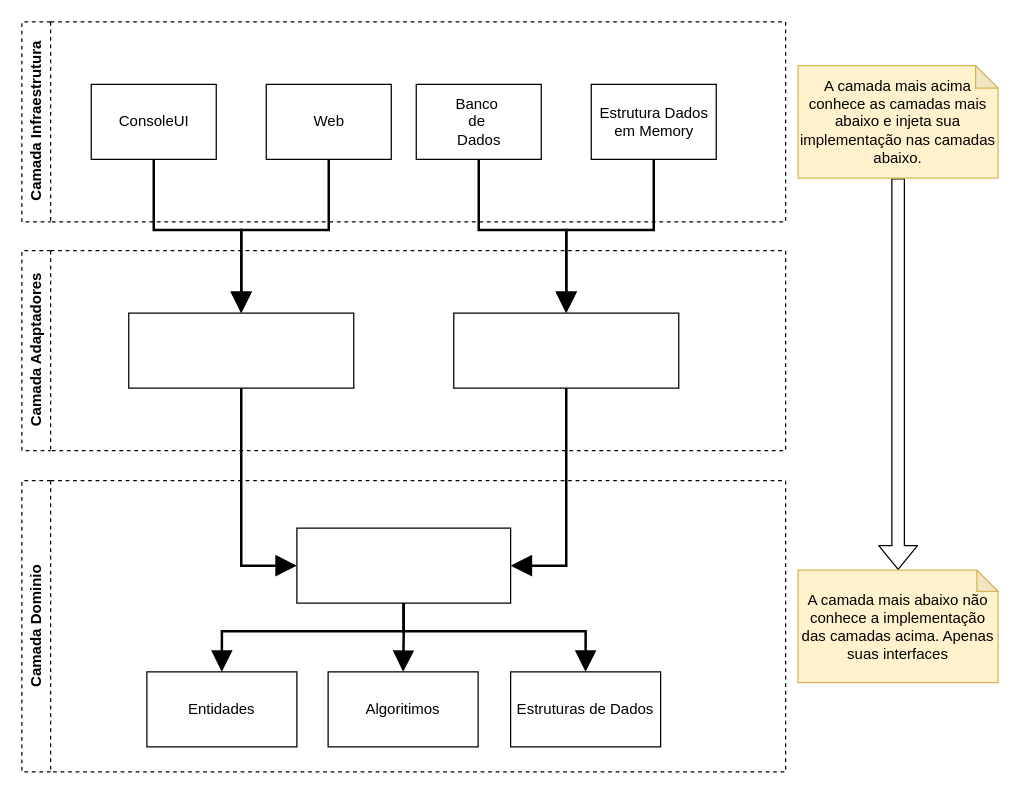
Image size: 1020x794. Some labels were removed from this diagram. The centre of each missing label's shape, as x and y in pixels:
"Casos de uso" goes at pixel 403 565.
"Controladores" goes at pixel 241 350.
"Repositorios" goes at pixel 565 350.
